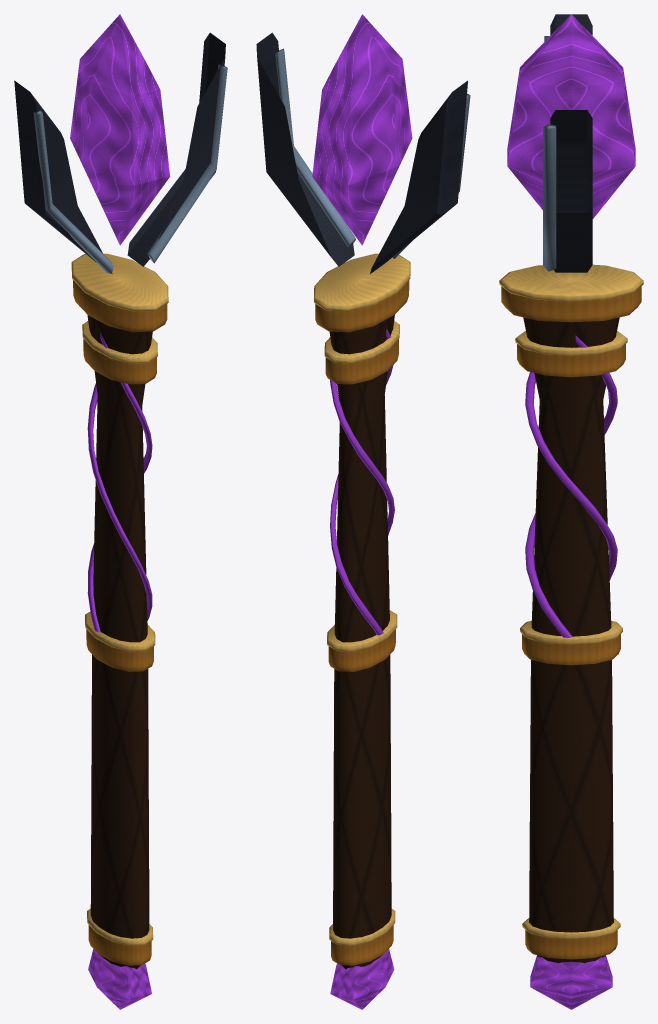
File: shadow_scepter.glb
3 renders of one model, left to right at view 1: azimuth 30°, elevation 25°; view 2: azimuth 150°, elevation 25°; view 3: azimuth 270°, elevation 25°, orthographic.
Parts seen in each view (by area): view 1: Leather wrapped grip, Black-violet shadow heart, Swept shadow wing (×2), Polished collar edge (×4), Engraved metal collar (×4), Wing silver edge (×2), Spiral elemental shaft inlay (×2), Inset elemental pommel; view 2: Leather wrapped grip, Black-violet shadow heart, Swept shadow wing (×2), Polished collar edge (×4), Engraved metal collar (×4), Spiral elemental shaft inlay (×2), Inset elemental pommel, Wing silver edge; view 3: Leather wrapped grip, Black-violet shadow heart, Engraved metal collar (×4), Polished collar edge (×4), Swept shadow wing (×2), Spiral elemental shaft inlay (×2), Inset elemental pommel, Wing silver edge.
Boxes of the visible parts, bbox=[...] form: Leather wrapped grip: bbox=[87, 315, 152, 969]; Black-violet shadow heart: bbox=[70, 14, 170, 245]; Swept shadow wing (×2): bbox=[14, 32, 225, 273]; Polished collar edge (×4): bbox=[71, 253, 168, 945]; Engraved metal collar (×4): bbox=[73, 280, 167, 965]; Wing silver edge (×2): bbox=[33, 64, 227, 273]; Spiral elemental shaft inlay (×2): bbox=[87, 332, 152, 632]; Inset elemental pommel: bbox=[88, 949, 151, 1009]; Leather wrapped grip: bbox=[329, 315, 394, 969]; Black-violet shadow heart: bbox=[312, 14, 412, 245]; Swept shadow wing (×2): bbox=[256, 32, 467, 273]; Polished collar edge (×4): bbox=[314, 253, 410, 945]; Engraved metal collar (×4): bbox=[315, 280, 409, 965]; Spiral elemental shaft inlay (×2): bbox=[330, 329, 394, 635]; Inset elemental pommel: bbox=[330, 949, 394, 1009]; Wing silver edge: bbox=[275, 48, 355, 246]; Leather wrapped grip: bbox=[523, 317, 619, 963]; Black-violet shadow heart: bbox=[507, 14, 635, 218]; Engraved metal collar (×4): bbox=[501, 286, 641, 959]; Polished collar edge (×4): bbox=[499, 264, 643, 939]; Swept shadow wing (×2): bbox=[550, 14, 592, 272]; Spiral elemental shaft inlay (×2): bbox=[525, 335, 617, 637]; Inset elemental pommel: bbox=[530, 955, 612, 1009]; Wing silver edge: bbox=[543, 124, 556, 271].
Bounding box in the file's own units: 72 × 350 × 46.
7 materials, 7 textured.
